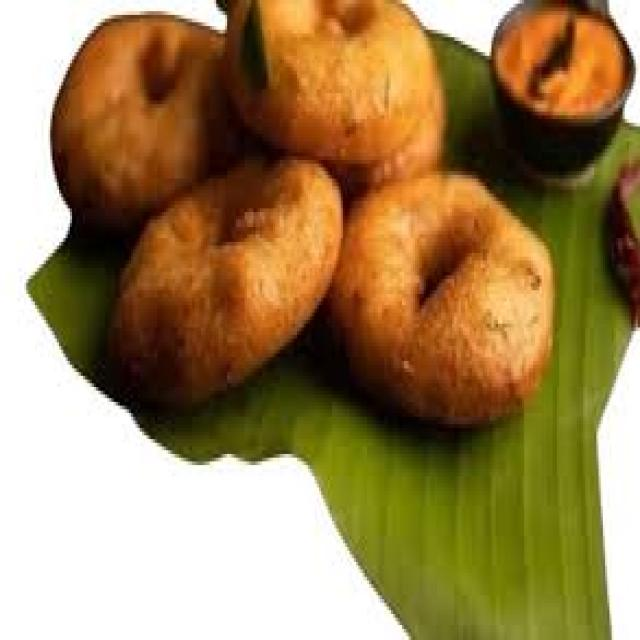MEDU VADA: (332, 162, 552, 439), (111, 158, 343, 405), (48, 11, 236, 243), (229, 0, 450, 188)
